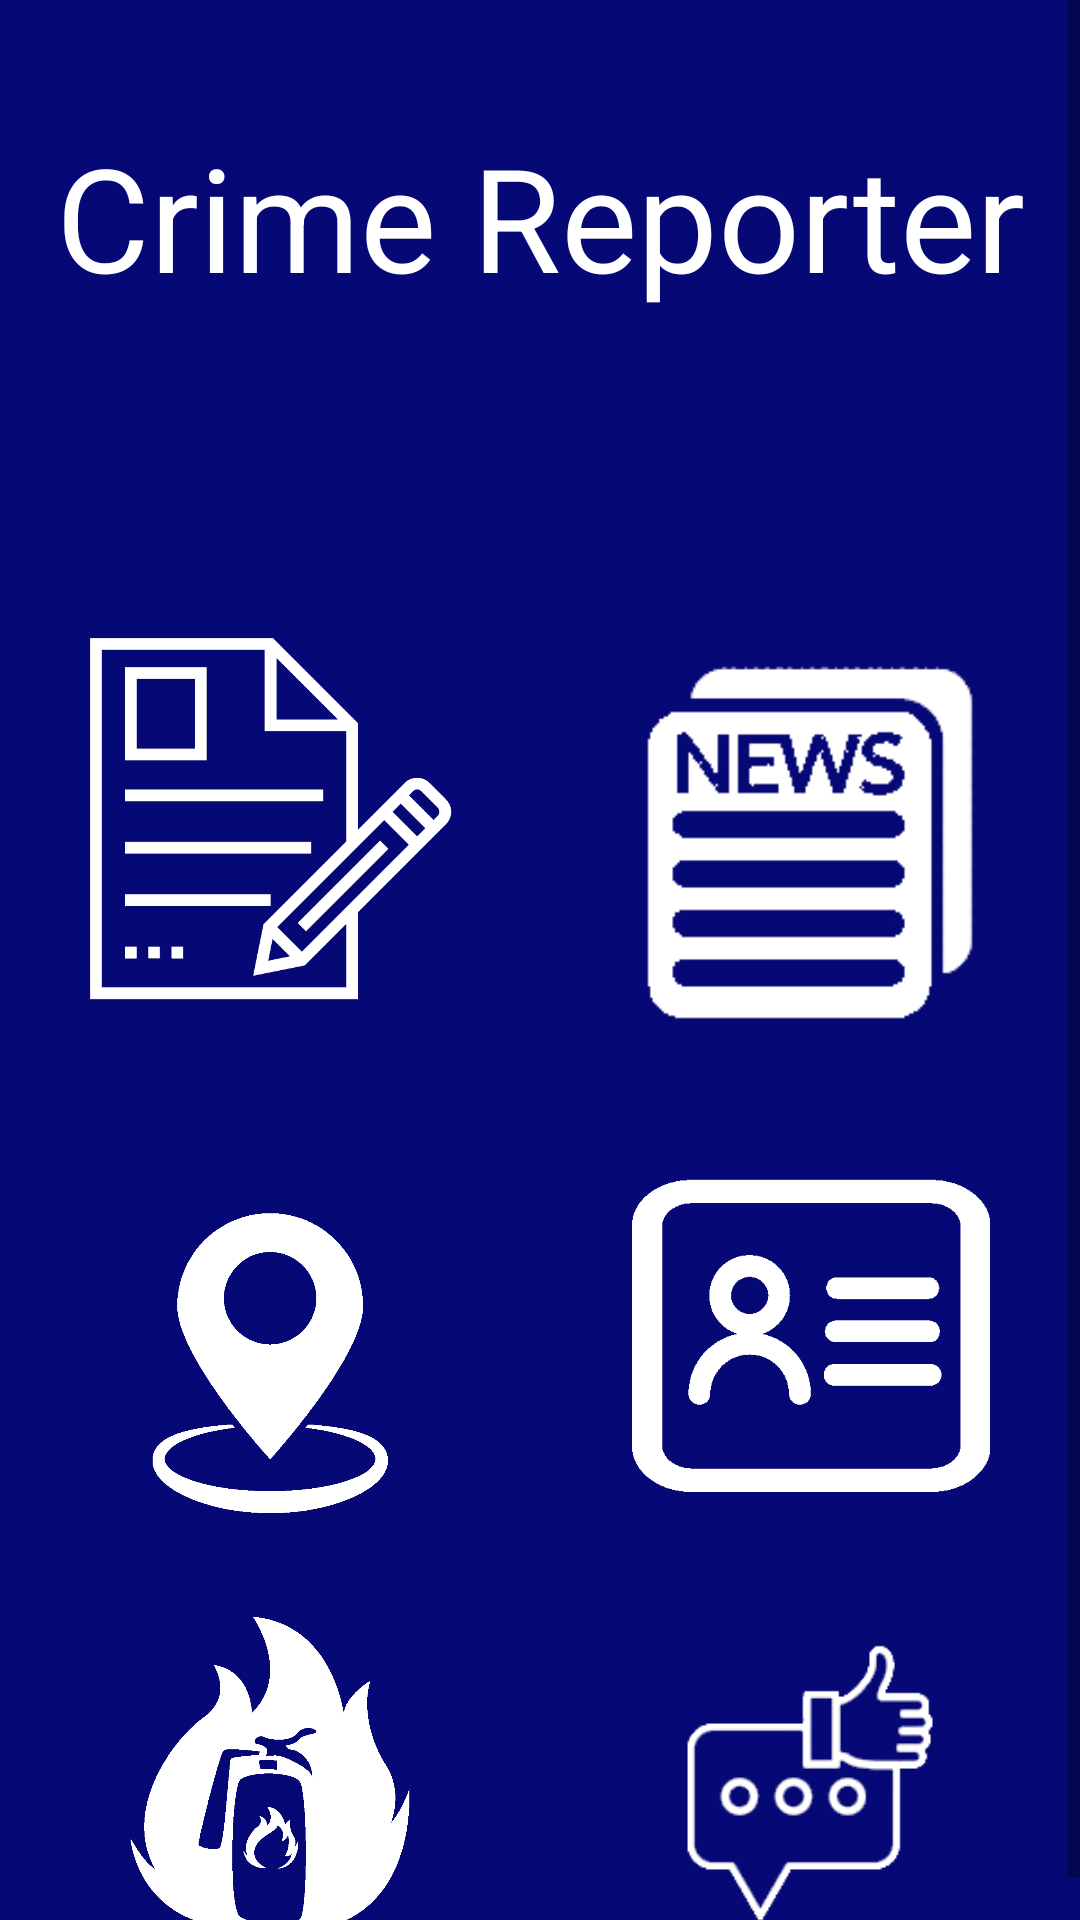

Locate icon controls on the screen. Image size 1080 × 1920, boxes as (x1, y1, x2, y2).
loc: (152, 1213, 388, 1513)
